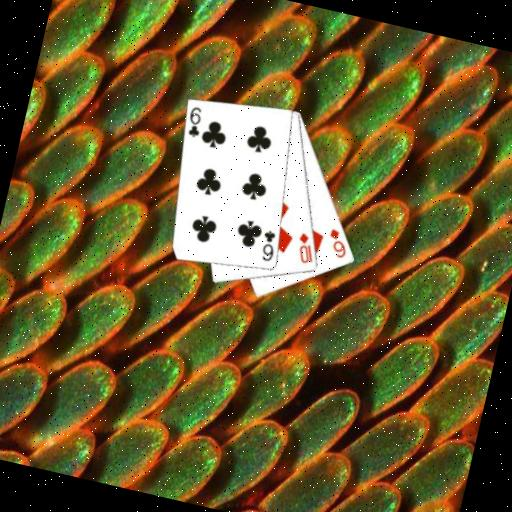10D: (291, 229, 320, 267)
6C: (182, 103, 207, 140), (256, 227, 280, 265)
6D: (322, 225, 352, 261)
